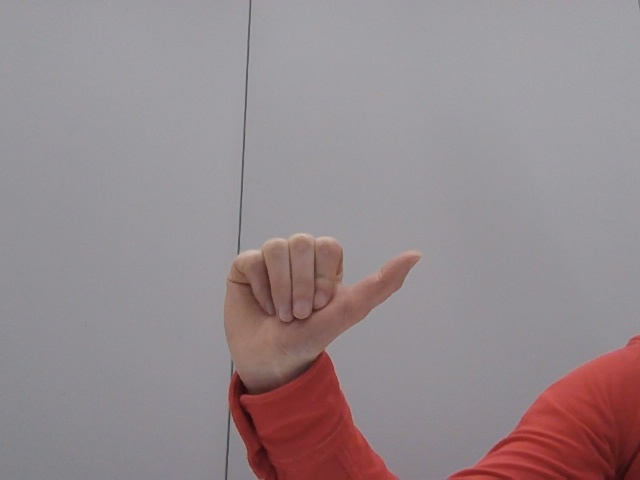left: (191, 220, 437, 410)
